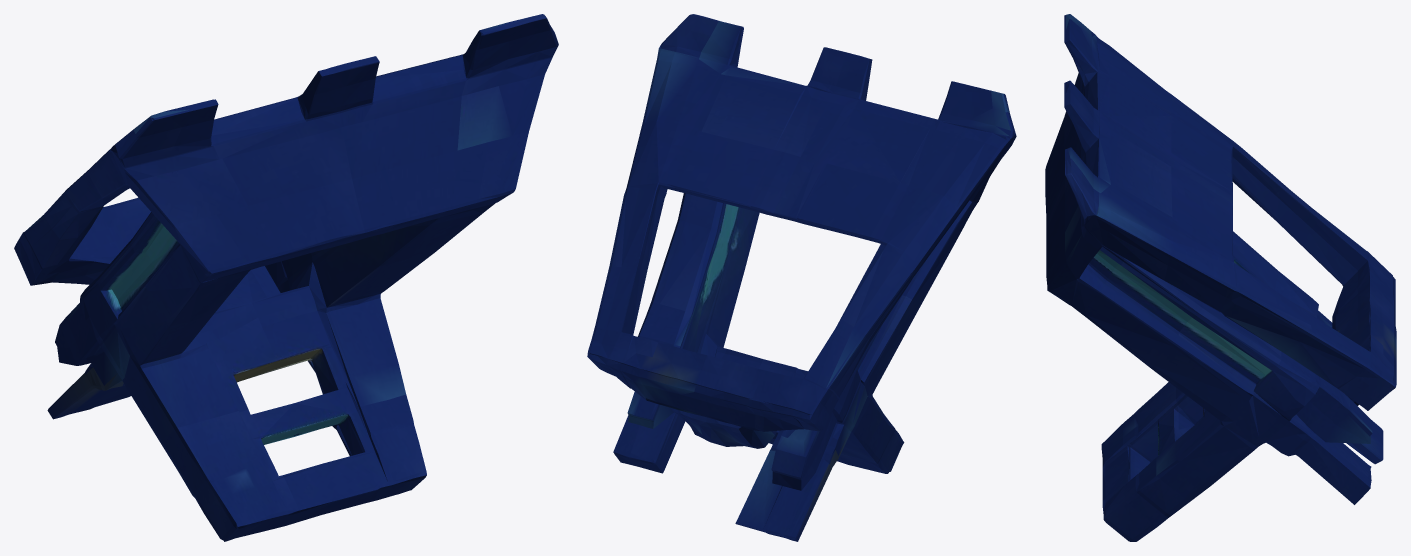
File: impossible-trident.glb
3 renders of one model, left to right at view 1: azimuth 30°, elevation 25°; view 2: azimuth 150°, elevation 25°; view 3: azimuth 270°, elevation 25°, orthographic. The views are drawn at different scales.
Parts seen in each view (by area): view 1: tripo_node_5b2e7652-30d1-46fa-9558-6230c9ec797d; view 2: tripo_node_5b2e7652-30d1-46fa-9558-6230c9ec797d; view 3: tripo_node_5b2e7652-30d1-46fa-9558-6230c9ec797d.
Boxes of the visible parts, x1=… form: tripo_node_5b2e7652-30d1-46fa-9558-6230c9ec797d: x1=14, y1=14, x2=558, y2=541; tripo_node_5b2e7652-30d1-46fa-9558-6230c9ec797d: x1=587, y1=14, x2=1016, y2=541; tripo_node_5b2e7652-30d1-46fa-9558-6230c9ec797d: x1=1045, y1=14, x2=1396, y2=541.
Bounding box in the file's own units: 0.959 × 0.998 × 0.7676.
1 material, 1 textured.
